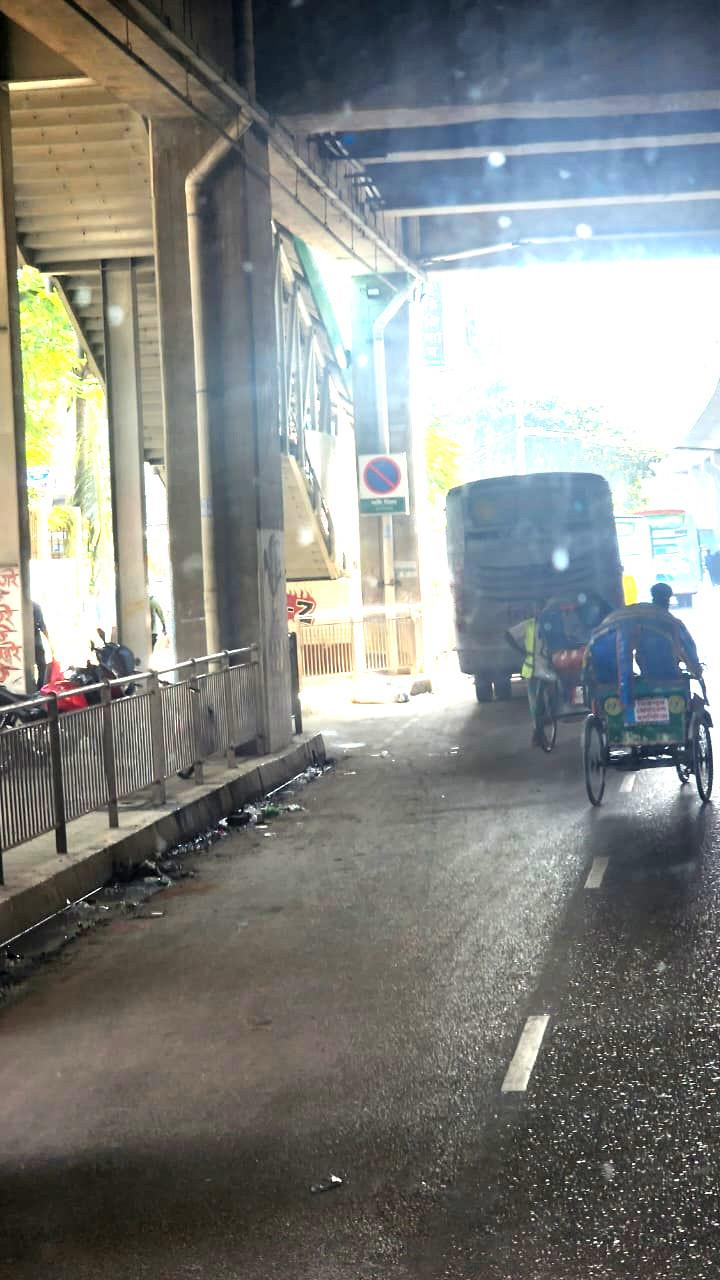No Parking: (356, 450, 412, 513)
